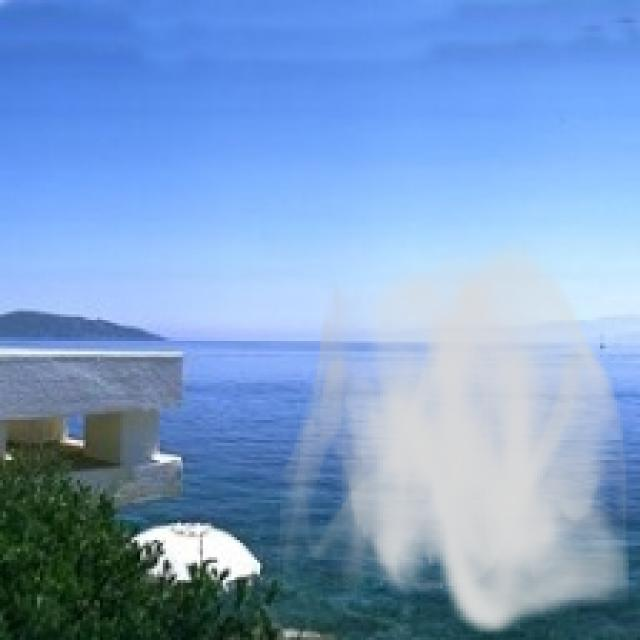smoke: (274, 234, 637, 640)
